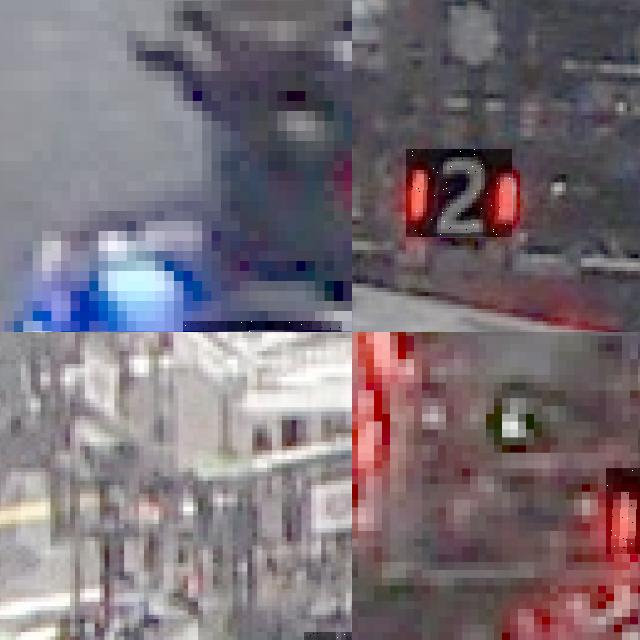R2: (406, 149, 512, 237), (606, 468, 640, 554), (33, 621, 116, 640)
